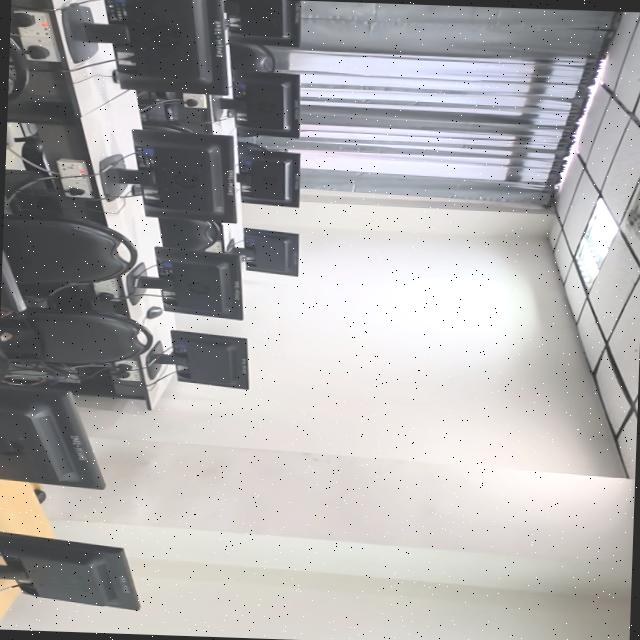Chair: (2, 213, 135, 283), (0, 307, 151, 364), (159, 217, 224, 250), (229, 41, 276, 71)
Monitor: (63, 0, 226, 94), (97, 128, 236, 221), (0, 530, 140, 609), (0, 385, 106, 488), (127, 247, 243, 319), (155, 329, 249, 388), (218, 71, 301, 137), (238, 141, 300, 206), (225, 0, 300, 46), (231, 227, 298, 275), (0, 249, 26, 311)
Mouse: (33, 487, 46, 503), (146, 305, 163, 317)
